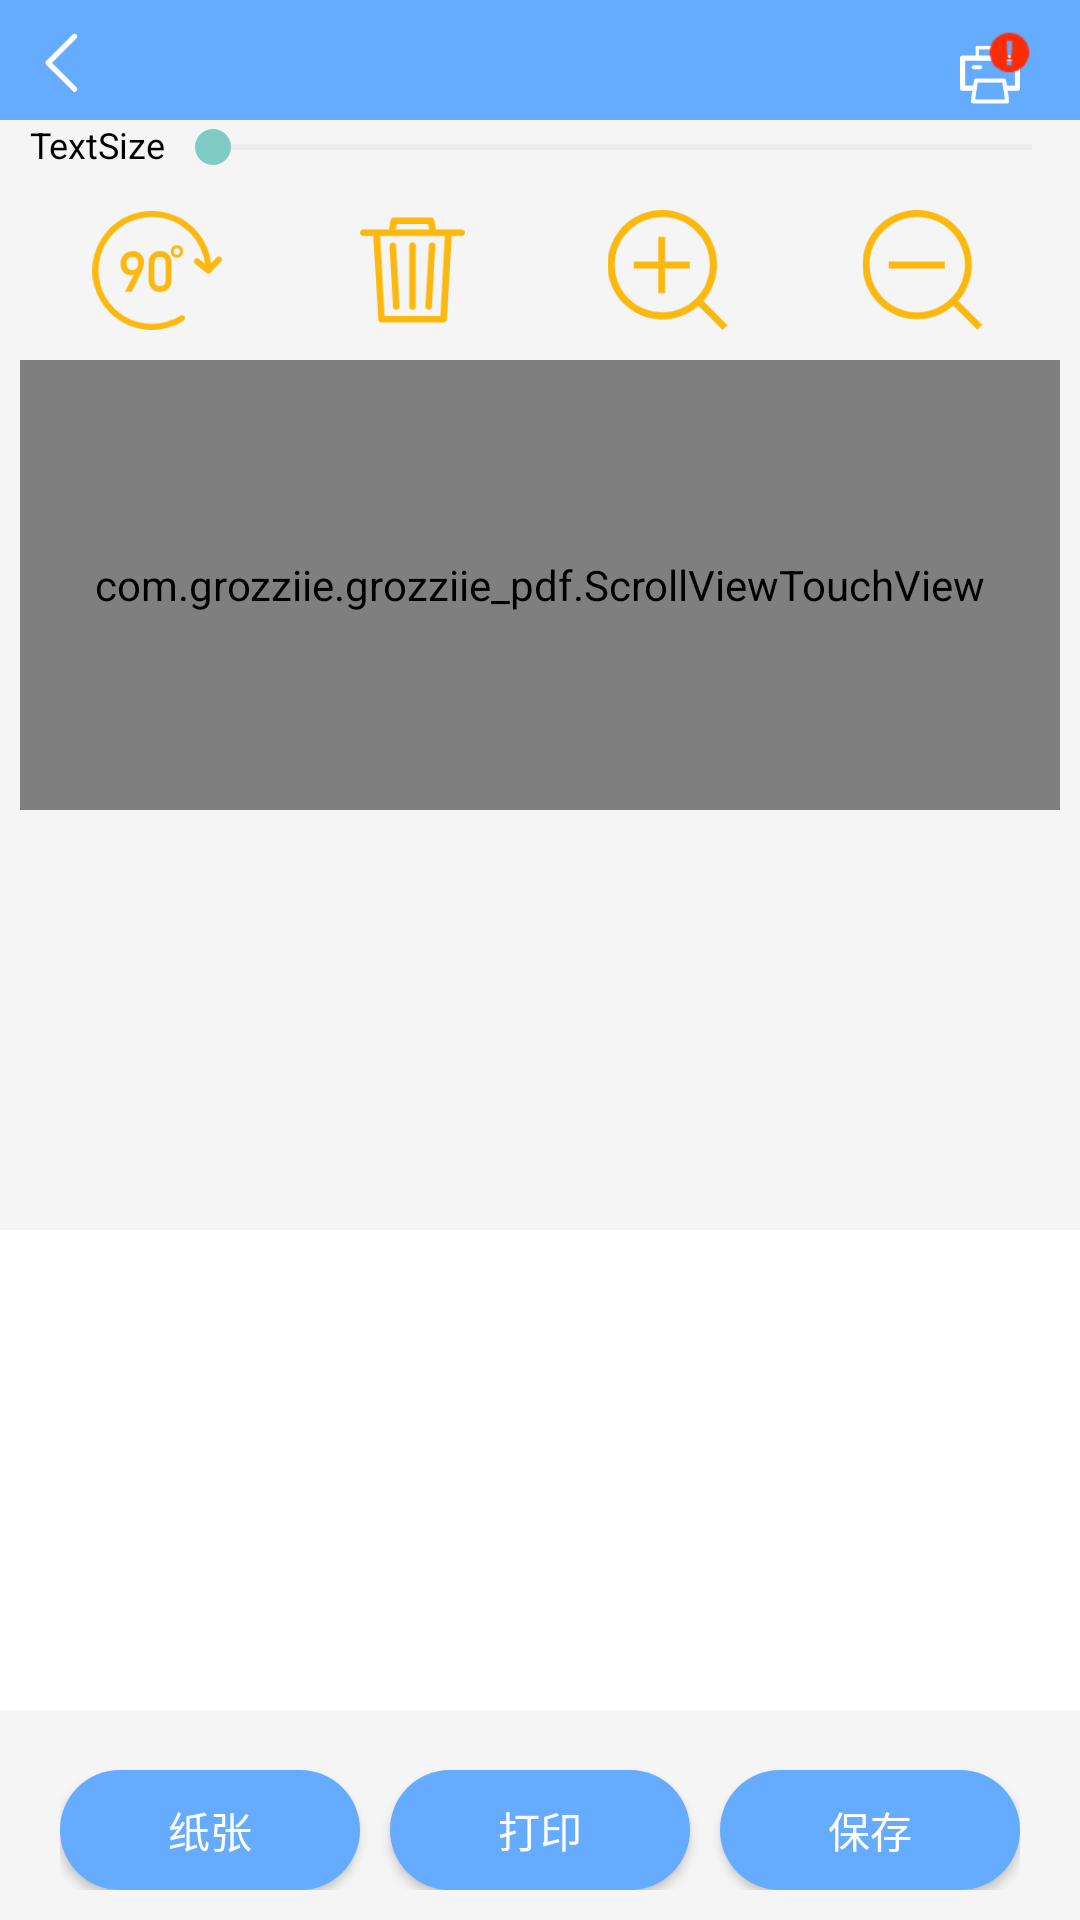

Where to tap for icons on this 1080×1920 app screen, as point (x, y):
backlast: point (61, 62)
makemax: point (668, 270)
makemin: point (923, 270)
makerotate: point (157, 270)
maketrash: point (412, 270)
zgprint: point (990, 74)
